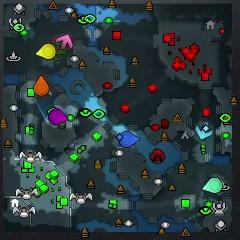p1: (119, 131, 139, 147)
p2: (202, 178, 222, 194)
p3: (49, 109, 66, 124)
p4: (35, 43, 55, 60)
p5: (33, 76, 49, 96)
x1: (56, 34, 73, 48)
x3: (196, 121, 213, 139)
x4: (53, 44, 66, 61)
